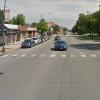Car: (50, 35, 70, 52)
